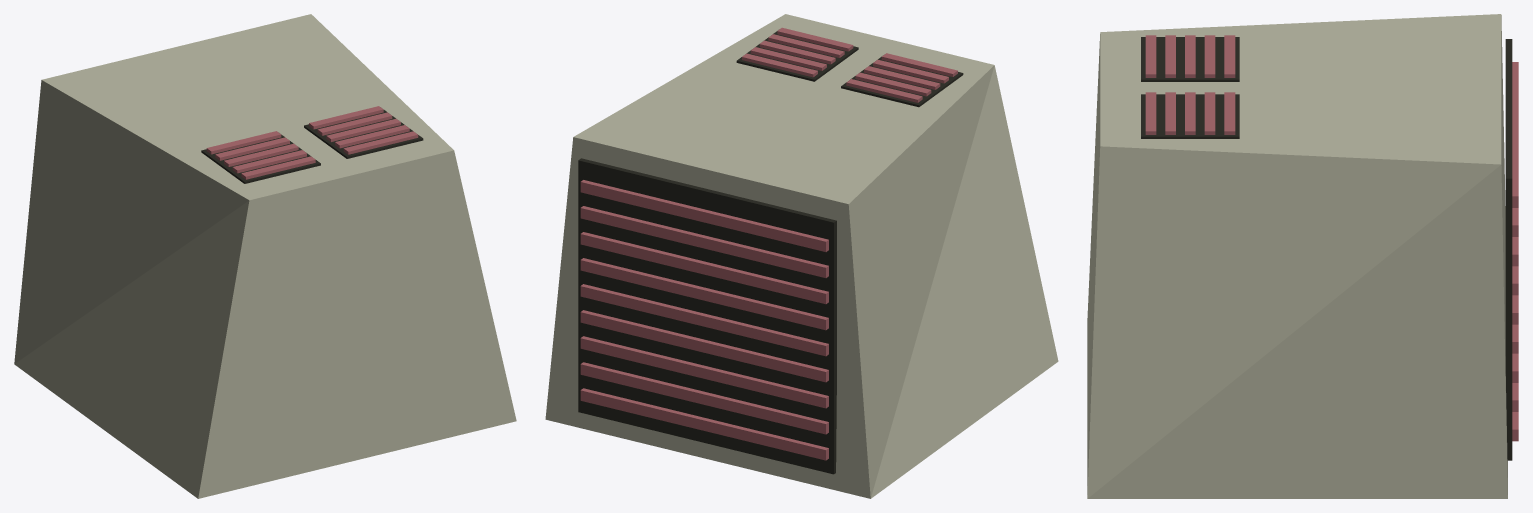
Rendered from vge_mech_large_thruster.obj.
The picture shows the model from 3 angles, left to right: view 1: azimuth 30°, elevation 25°; view 2: azimuth 150°, elevation 25°; view 3: azimuth 270°, elevation 25°; orthographic projection. The views are drawn at different scales.
Parts seen in each view (by area): view 1: vge_mech_large_thruster_0, vge_mech_large_thruster_11, vge_mech_large_thruster_17, vge_mech_large_thruster_18, vge_mech_large_thruster_21, vge_mech_large_thruster_16, vge_mech_large_thruster_20, vge_mech_large_thruster_22, vge_mech_large_thruster_19, vge_mech_large_thruster_12, vge_mech_large_thruster_13, vge_mech_large_thruster_15 (+1 smaller); view 2: vge_mech_large_thruster_0, vge_mech_large_thruster_1, vge_mech_large_thruster_4, vge_mech_large_thruster_5, vge_mech_large_thruster_3, vge_mech_large_thruster_6, vge_mech_large_thruster_8, vge_mech_large_thruster_2, vge_mech_large_thruster_7, vge_mech_large_thruster_9, vge_mech_large_thruster_10, vge_mech_large_thruster_17 (+11 smaller); view 3: vge_mech_large_thruster_0, vge_mech_large_thruster_1, vge_mech_large_thruster_11, vge_mech_large_thruster_17, vge_mech_large_thruster_10, vge_mech_large_thruster_12, vge_mech_large_thruster_15, vge_mech_large_thruster_16, vge_mech_large_thruster_18, vge_mech_large_thruster_21, vge_mech_large_thruster_22, vge_mech_large_thruster_13 (+3 smaller).
Boxes of the visible parts, left/top/right/bottom form: vge_mech_large_thruster_0: left=14, top=14, right=516, bottom=498; vge_mech_large_thruster_11: left=201, top=134, right=320, bottom=183; vge_mech_large_thruster_17: left=304, top=110, right=423, bottom=158; vge_mech_large_thruster_18: left=343, top=131, right=418, bottom=154; vge_mech_large_thruster_21: left=317, top=112, right=392, bottom=135; vge_mech_large_thruster_16: left=206, top=131, right=281, bottom=154; vge_mech_large_thruster_20: left=326, top=119, right=400, bottom=141; vge_mech_large_thruster_22: left=309, top=106, right=383, bottom=129; vge_mech_large_thruster_19: left=335, top=125, right=409, bottom=148; vge_mech_large_thruster_12: left=241, top=156, right=315, bottom=179; vge_mech_large_thruster_13: left=232, top=150, right=306, bottom=173; vge_mech_large_thruster_15: left=215, top=137, right=289, bottom=160; vge_mech_large_thruster_0: left=545, top=14, right=1058, bottom=498; vge_mech_large_thruster_1: left=578, top=158, right=836, bottom=474; vge_mech_large_thruster_4: left=580, top=336, right=828, bottom=408; vge_mech_large_thruster_5: left=580, top=310, right=828, bottom=382; vge_mech_large_thruster_3: left=580, top=362, right=828, bottom=434; vge_mech_large_thruster_6: left=580, top=284, right=828, bottom=356; vge_mech_large_thruster_8: left=580, top=232, right=828, bottom=304; vge_mech_large_thruster_2: left=580, top=388, right=828, bottom=460; vge_mech_large_thruster_7: left=580, top=258, right=828, bottom=330; vge_mech_large_thruster_9: left=580, top=206, right=828, bottom=277; vge_mech_large_thruster_10: left=580, top=180, right=828, bottom=251; vge_mech_large_thruster_17: left=736, top=31, right=858, bottom=81; vge_mech_large_thruster_0: left=1087, top=14, right=1507, bottom=498; vge_mech_large_thruster_1: left=1505, top=39, right=1512, bottom=460; vge_mech_large_thruster_11: left=1141, top=37, right=1239, bottom=81; vge_mech_large_thruster_17: left=1141, top=94, right=1239, bottom=138; vge_mech_large_thruster_10: left=1512, top=62, right=1518, bottom=207; vge_mech_large_thruster_12: left=1145, top=35, right=1156, bottom=77; vge_mech_large_thruster_15: left=1204, top=35, right=1215, bottom=77; vge_mech_large_thruster_16: left=1224, top=35, right=1235, bottom=77; vge_mech_large_thruster_18: left=1145, top=92, right=1156, bottom=134; vge_mech_large_thruster_21: left=1204, top=92, right=1215, bottom=134; vge_mech_large_thruster_22: left=1224, top=92, right=1235, bottom=134; vge_mech_large_thruster_13: left=1165, top=35, right=1175, bottom=77.
Bounding box in the file's own units: 1.96 × 1.68 × 2.01.
